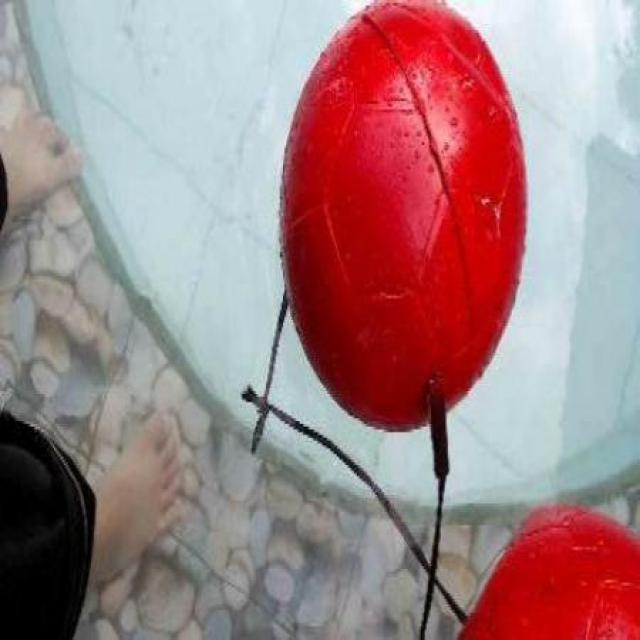buoy: (278, 1, 524, 431), (453, 505, 639, 638)
